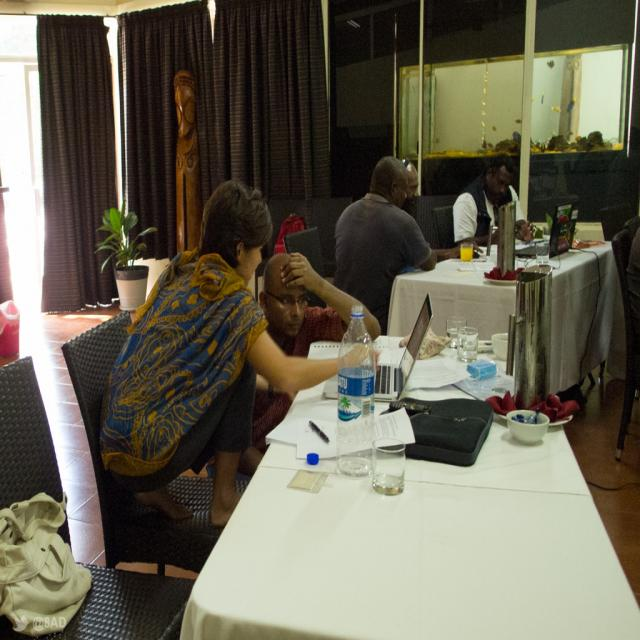chair: (60, 310, 224, 578), (614, 226, 640, 465), (274, 215, 306, 257), (433, 204, 455, 248)
desk: (181, 352, 640, 640)
laptop: (371, 295, 432, 405)
person: (97, 181, 357, 554), (332, 155, 440, 334), (453, 154, 528, 249)
